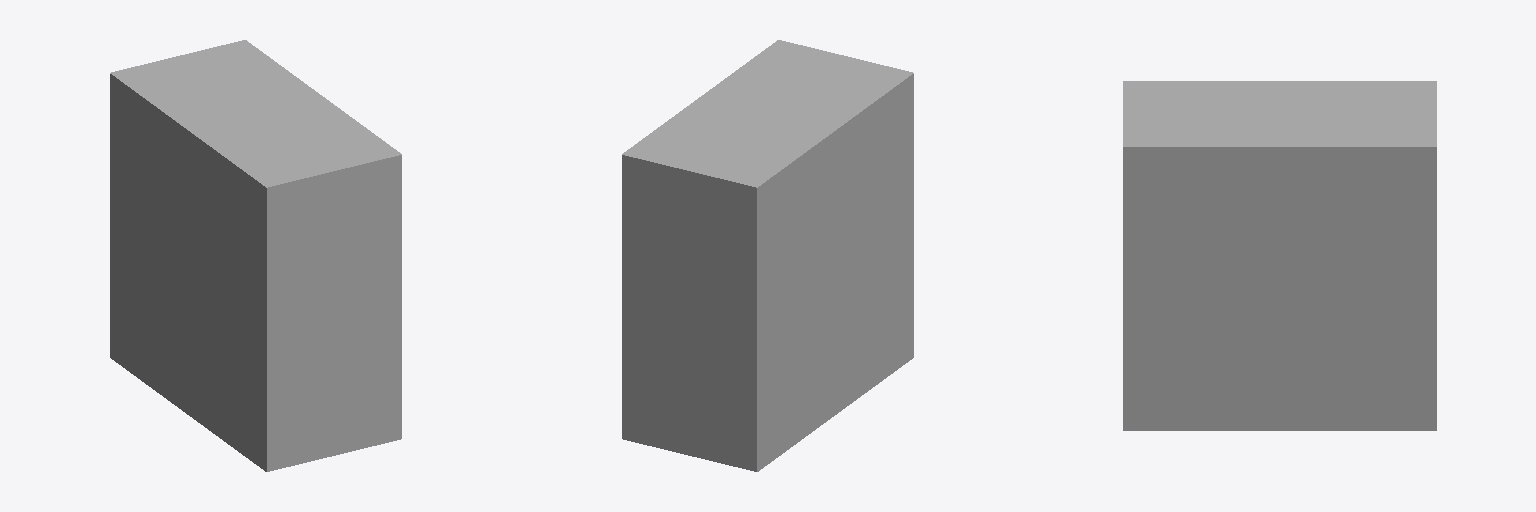
3 views of the same model, side by side, from view 1: azimuth 30°, elevation 25°; view 2: azimuth 150°, elevation 25°; view 3: azimuth 270°, elevation 25° (orthographic).
Visible parts, largest first — view 1: object 1; view 2: object 1; view 3: object 1.
Boxes of the visible parts, <box> form: object 1: <box>110,40,401,471</box>; object 1: <box>622,40,913,471</box>; object 1: <box>1123,81,1436,430</box>.
Size of the model in its own units: 0.1 by 0.2 by 0.2.
1 materials, 1 textured.